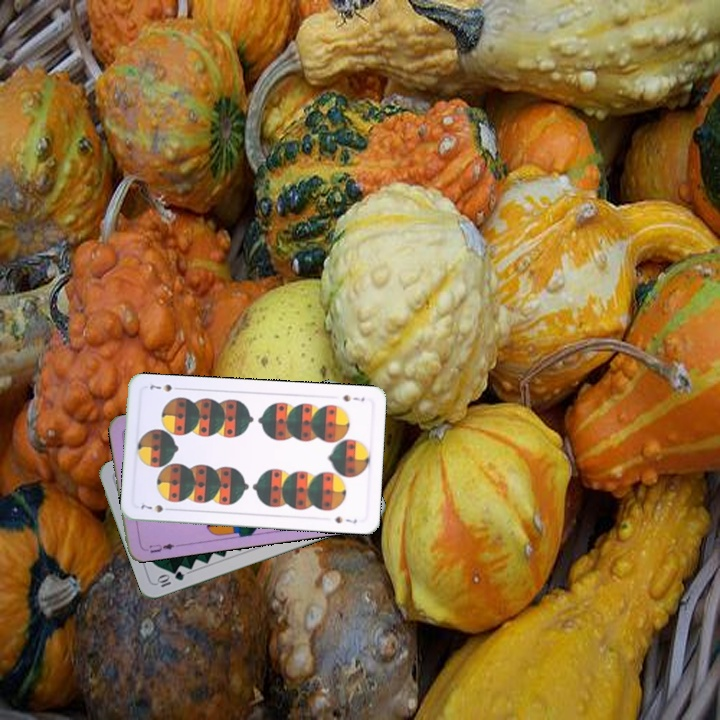EU: (145, 539, 181, 555)
G10: (153, 567, 187, 590)
S7: (137, 500, 175, 515), (339, 391, 367, 404)
